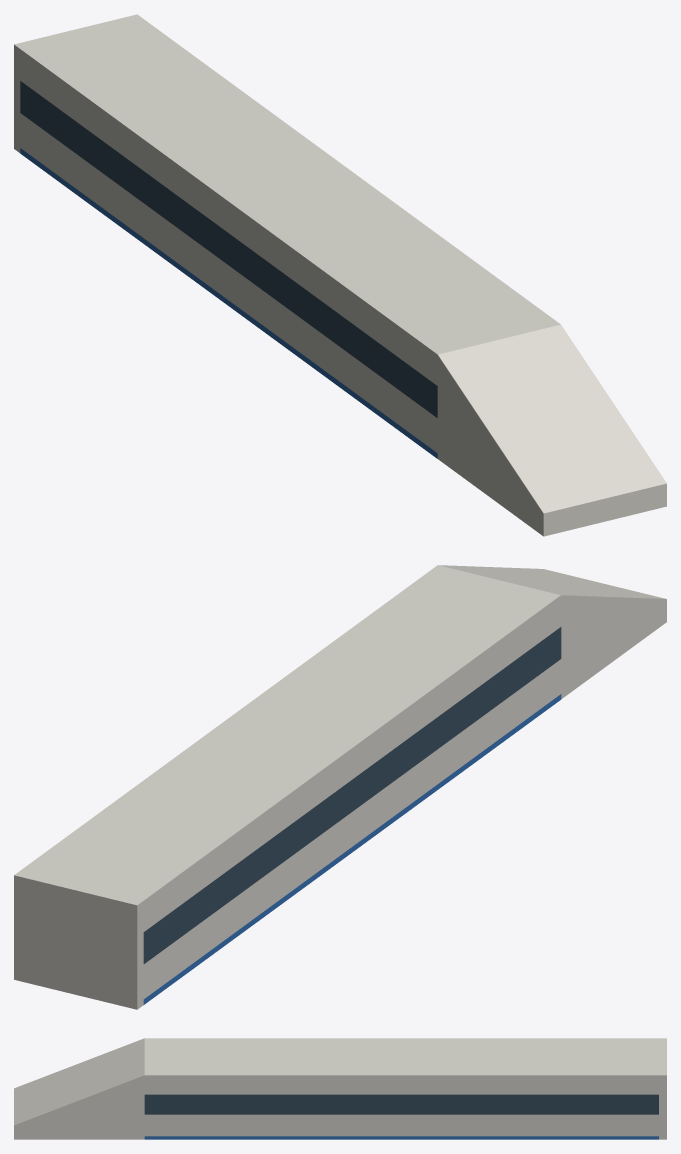
The model's file is 2_far.fbx.
The picture shows the model from 3 angles, top to bottom: view 1: azimuth 30°, elevation 25°; view 2: azimuth 150°, elevation 25°; view 3: azimuth 270°, elevation 25°; orthographic projection. The views are drawn at different scales.
Visible parts, largest first — view 1: 23_2_far; view 2: 23_2_far; view 3: 23_2_far.
Boxes of the visible parts, box(x1,y1,x2,y2) form: 23_2_far: box(14, 14, 666, 536); 23_2_far: box(14, 565, 666, 1009); 23_2_far: box(14, 1038, 666, 1139).
Bounding box in the file's own units: 3.37 × 2.72 × 25.
